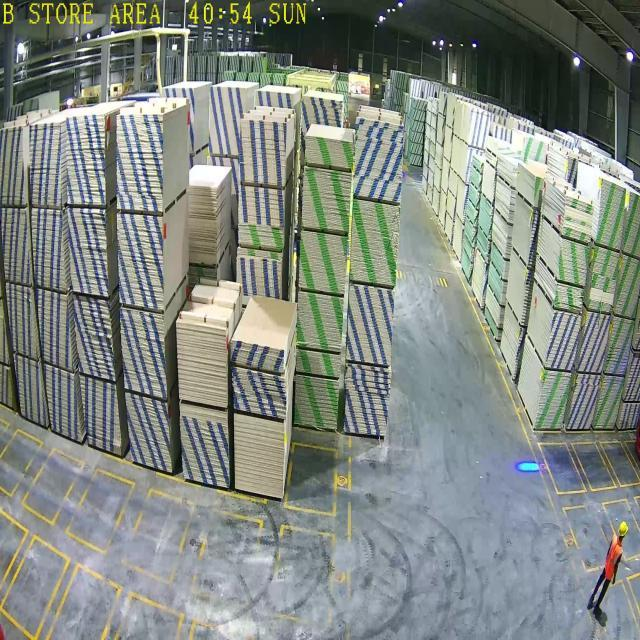material_stack: (349, 198, 401, 289), (354, 115, 404, 205), (233, 412, 284, 499), (346, 284, 396, 368), (343, 361, 392, 439), (300, 165, 353, 235), (299, 231, 349, 296), (231, 365, 286, 421), (296, 290, 344, 354), (294, 373, 340, 431), (544, 309, 583, 372), (534, 368, 572, 430), (587, 246, 621, 315), (577, 308, 612, 375), (596, 180, 627, 251), (567, 373, 602, 431), (231, 338, 285, 374), (604, 315, 635, 375), (593, 375, 626, 431), (614, 254, 640, 321), (561, 194, 595, 245), (305, 134, 353, 170), (556, 237, 590, 287), (296, 348, 341, 380), (622, 191, 640, 260), (554, 283, 586, 313)
